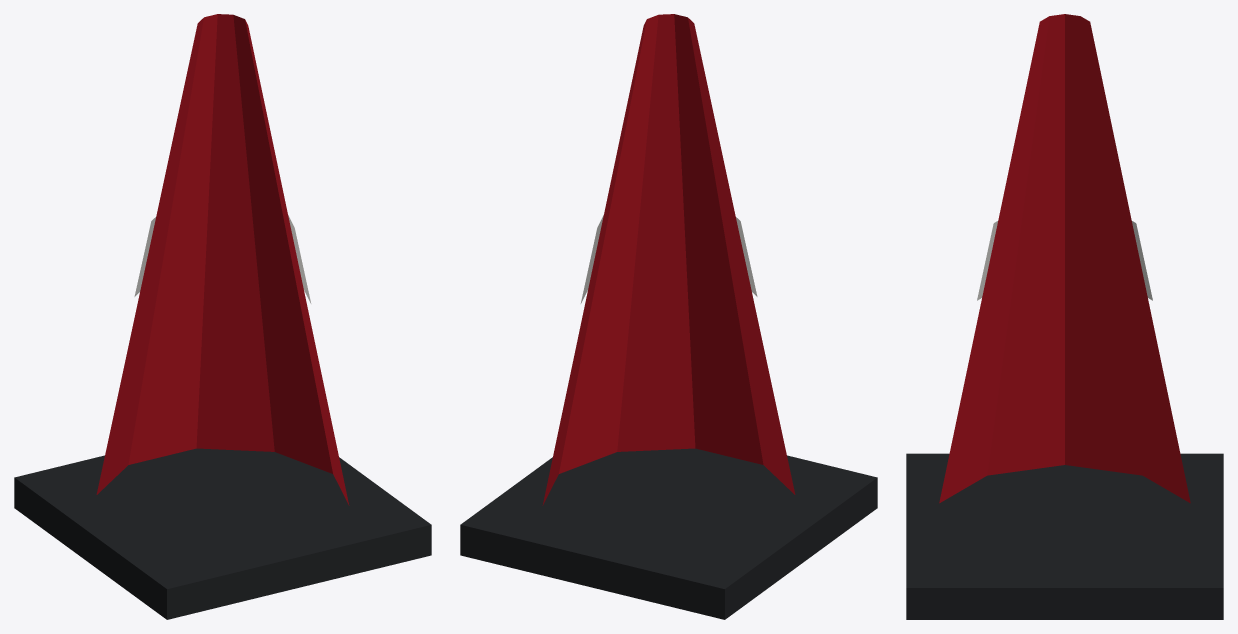
3 views of the same model, side by side, from view 1: azimuth 30°, elevation 25°; view 2: azimuth 150°, elevation 25°; view 3: azimuth 270°, elevation 25° (orthographic). The views are drawn at different scales.
Parts seen in each view (by area): view 1: cone; view 2: cone; view 3: cone.
Boxes of the visible parts, left/top/right/bottom form: cone: left=14, top=14, right=431, bottom=619; cone: left=460, top=14, right=877, bottom=619; cone: left=906, top=14, right=1223, bottom=619.
Bounding box in the file's own units: 0.36 × 0.66 × 0.36.
